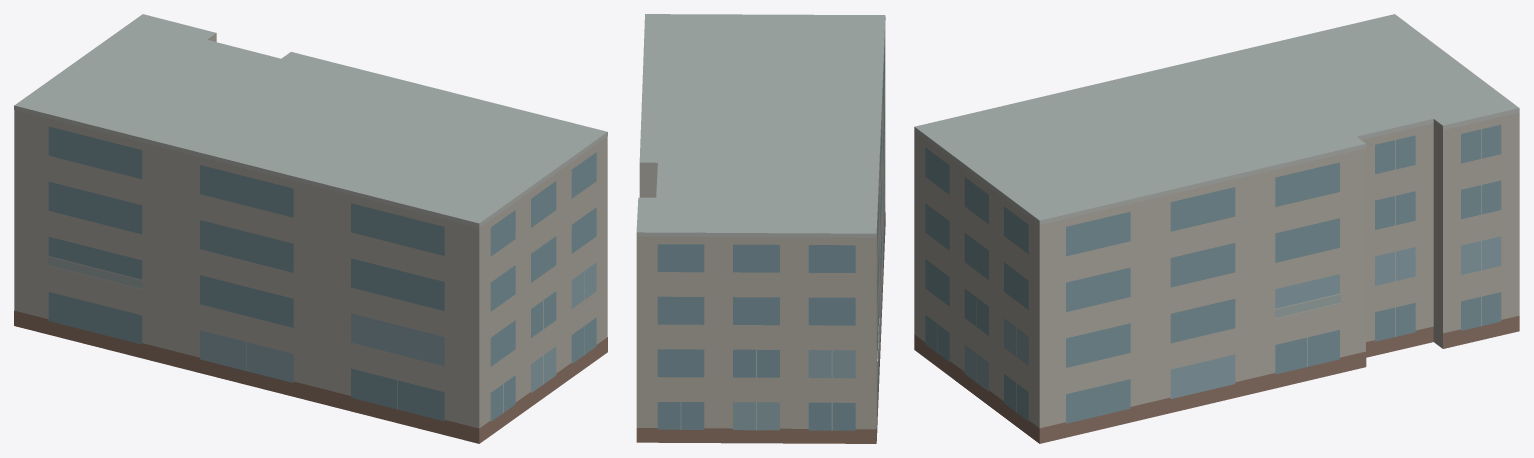
The model's file is survey-upis-32915668.glb.
The picture shows the model from 3 angles, left to right: view 1: azimuth 30°, elevation 25°; view 2: azimuth 150°, elevation 25°; view 3: azimuth 270°, elevation 25°; orthographic projection. The views are drawn at different scales.
Visible parts, largest first — view 1: survey-upis-32915668.tmp; view 2: survey-upis-32915668.tmp; view 3: survey-upis-32915668.tmp.
Part boxes in pixels (bbox=[...]): survey-upis-32915668.tmp: bbox=[14, 14, 607, 443]; survey-upis-32915668.tmp: bbox=[636, 14, 885, 443]; survey-upis-32915668.tmp: bbox=[914, 14, 1519, 443].
Bounding box in the file's own units: 24.23 × 12.2 × 29.98.
